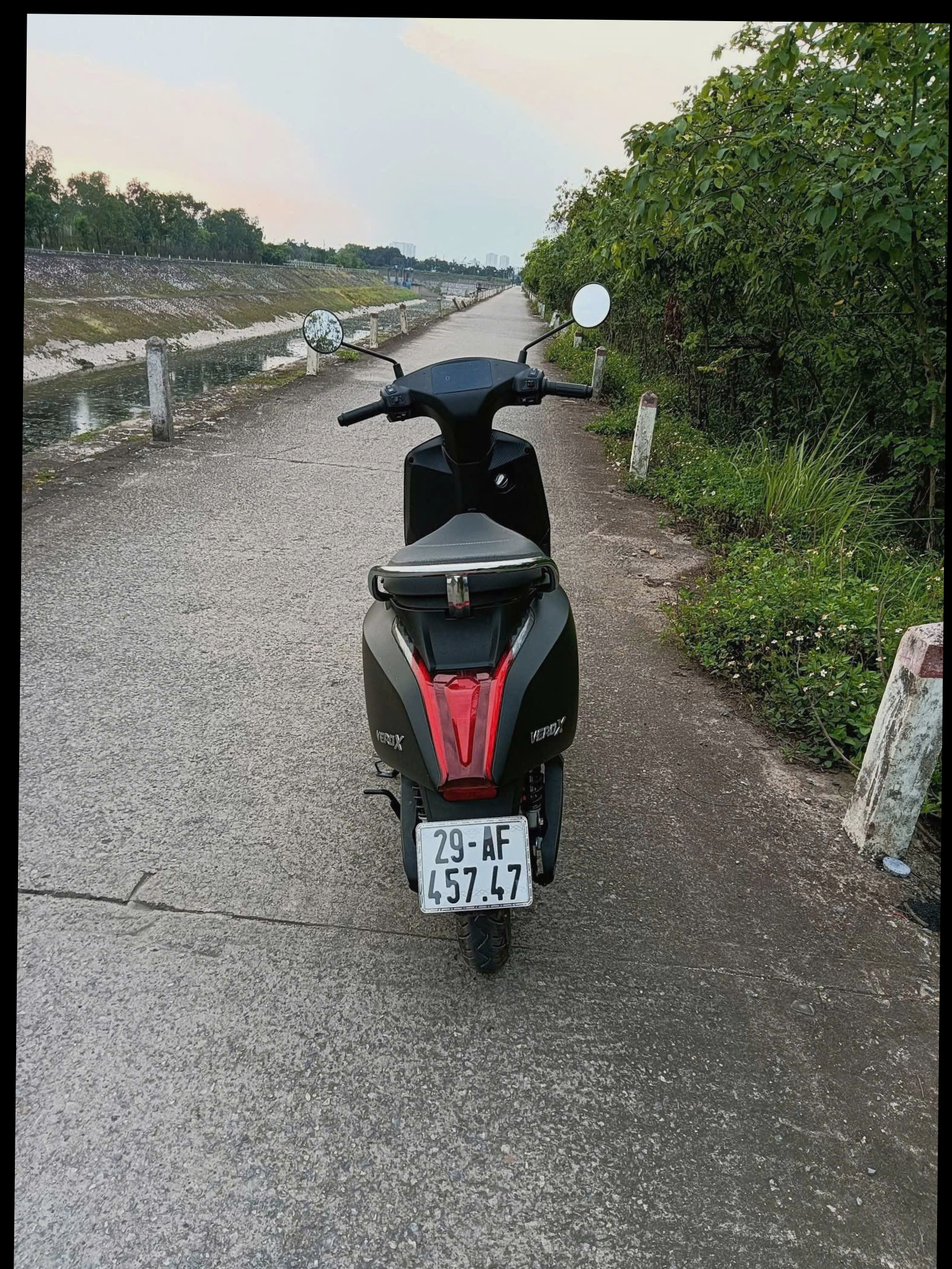Bien-so: (393, 752, 517, 864)
